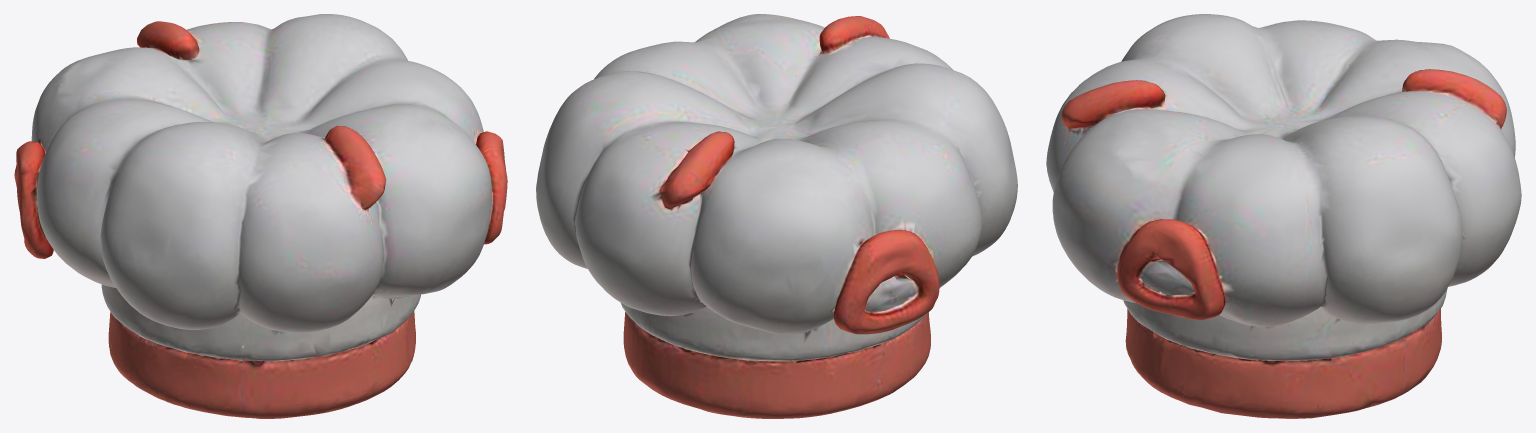
The model's file is acc_hat_chef_01.glb.
3 views of the same model, side by side, from view 1: azimuth 30°, elevation 25°; view 2: azimuth 150°, elevation 25°; view 3: azimuth 270°, elevation 25° (orthographic).
Parts seen in each view (by area): view 1: acc_hat_chef_01; view 2: acc_hat_chef_01; view 3: acc_hat_chef_01.
Boxes of the visible parts, x1,y1,x2,y2 form: acc_hat_chef_01: (14,14,507,418); acc_hat_chef_01: (536,14,1017,418); acc_hat_chef_01: (1046,14,1521,418).
Size of the model in its own units: 0.452 by 0.3 by 0.453.
Materials: 1 (1 with a texture image).
